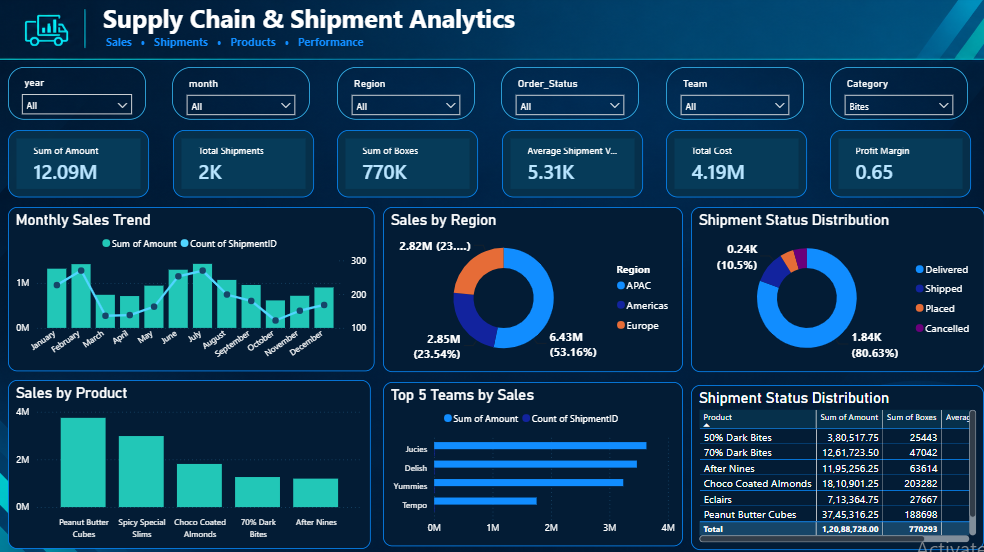

This screenshot's page, from the dashboard's own definition file:
{"tool":"powerbi","page":{"name":"Page 1","canvas":[1280,720],"ordinal":0},"visuals":[{"type":"textbox","box":[128.6,0,548.6,74.3],"z":0},{"type":"slicer","fields":{"Values":["calendar.year"]},"box":[11.4,90,178,68],"z":1000},{"type":"slicer","fields":{"Values":["calendar.month_name"]},"box":[223.7,90,178,68],"z":2000},{"type":"slicer","fields":{"Values":["locations.Region"]},"box":[436,90,178,68],"z":3000},{"type":"slicer","fields":{"Values":["people.Team"]},"box":[860.6,90,178,68],"z":4000},{"type":"slicer","fields":{"Values":["products.Category"]},"box":[1072.9,90,178,68],"z":5000},{"type":"slicer","fields":{"Values":["shipments.Order_Status"]},"box":[648.3,90,178,68],"z":6000},{"type":"cardVisual","fields":{"Data":["Sum(shipments.Amount)"]},"box":[11.4,171.4,182,87],"z":7000},{"type":"cardVisual","fields":{"Data":["shipments.Total Shipments"]},"box":[224.3,171.4,182,87],"z":8000},{"type":"cardVisual","fields":{"Data":["Sum(shipments.Boxes)"]},"box":[435.7,171.4,182,87],"z":9000},{"type":"cardVisual","fields":{"Data":["shipments.Average Shipment Value"]},"box":[648.6,171.4,182,87],"z":10000},{"type":"cardVisual","fields":{"Data":["calendar.Total Cost"]},"box":[860,171.4,182,87],"z":11000},{"type":"cardVisual","fields":{"Data":["calendar.Profit Margin"]},"box":[1072.9,171.4,182,87],"z":12000},{"type":"lineClusteredColumnComboChart","title":"Monthly Sales Trend","fields":{"Y":["Sum(shipments.Amount)"],"Y2":["Count(shipments.ShipmentID)"],"Category":["calendar.cal_date.Variation.Date Hierarchy.Month"]},"box":[11.4,271.4,473,212],"z":13000},{"type":"donutChart","title":"Sales by Region","fields":{"Y":["Sum(shipments.Amount)"],"Category":["locations.Region"]},"box":[495.1,271.4,387.1,212.9],"z":14000},{"type":"donutChart","title":"Shipment Status Distribution","fields":{"Y":["CountNonNull(shipments.ShipmentID)"],"Category":["shipments.Order_Status"]},"box":[892.9,271.4,379,212.9],"z":15000},{"type":"clusteredColumnChart","title":"Sales by Product","fields":{"Category":["products.Product"],"Y":["Sum(shipments.Amount)"]},"box":[11.4,494.3,468,218],"z":16000},{"type":"clusteredBarChart","title":"Top 5 Teams by Sales","fields":{"Y":["Sum(shipments.Amount)","Count(shipments.ShipmentID)"],"Category":["people.Team"]},"box":[495,496.7,386.7,211.7],"z":17000},{"type":"tableEx","title":"Shipment Status Distribution","fields":{"Values":["products.Product","Sum(shipments.Amount)","Sum(shipments.Boxes)","Avg(shipments.Amount)"]},"box":[893.3,500,378.3,213.3],"z":18000}]}

Visuals, with their boxes in screenshot pixels (x1, y1, x2, y2), scaled from the page's 1280x720 canvas onto the 984x552 screenshot:
textbox: bbox=[99, 0, 521, 57]
slicer - calendar.year: bbox=[9, 69, 146, 121]
slicer - calendar.month_name: bbox=[172, 69, 309, 121]
slicer - locations.Region: bbox=[335, 69, 472, 121]
slicer - people.Team: bbox=[662, 69, 798, 121]
slicer - products.Category: bbox=[825, 69, 962, 121]
slicer - shipments.Order_Status: bbox=[498, 69, 635, 121]
cardVisual - Sum(shipments.Amount): bbox=[9, 131, 149, 198]
cardVisual - shipments.Total Shipments: bbox=[172, 131, 312, 198]
cardVisual - Sum(shipments.Boxes): bbox=[335, 131, 475, 198]
cardVisual - shipments.Average Shipment Value: bbox=[499, 131, 639, 198]
cardVisual - calendar.Total Cost: bbox=[661, 131, 801, 198]
cardVisual - calendar.Profit Margin: bbox=[825, 131, 965, 198]
"Monthly Sales Trend" lineClusteredColumnComboChart: bbox=[9, 208, 372, 371]
"Sales by Region" donutChart: bbox=[381, 208, 678, 371]
"Shipment Status Distribution" donutChart: bbox=[686, 208, 978, 371]
"Sales by Product" clusteredColumnChart: bbox=[9, 379, 369, 546]
"Top 5 Teams by Sales" clusteredBarChart: bbox=[381, 381, 678, 543]
"Shipment Status Distribution" tableEx: bbox=[687, 383, 978, 547]
